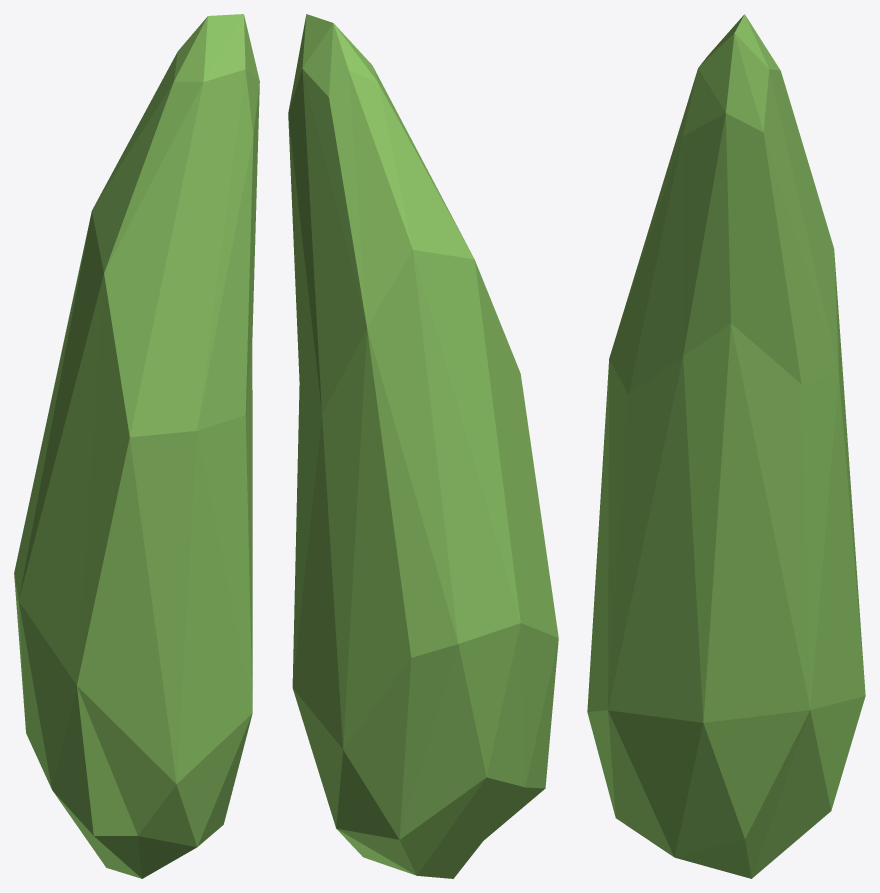
The model's file is Thuja_BushTree_m_08_LOD.fbx.
3 renders of one model, left to right at view 1: azimuth 30°, elevation 25°; view 2: azimuth 150°, elevation 25°; view 3: azimuth 270°, elevation 25°, orthographic. The views are drawn at different scales.
Visible parts, largest first — view 1: Thuja_BushTree_m_08_LOD0; view 2: Thuja_BushTree_m_08_LOD0; view 3: Thuja_BushTree_m_08_LOD0.
Boxes of the visible parts, <box> form: Thuja_BushTree_m_08_LOD0: <box>14,14,259,878</box>; Thuja_BushTree_m_08_LOD0: <box>288,14,558,878</box>; Thuja_BushTree_m_08_LOD0: <box>587,14,865,878</box>.
Size of what is drawn, in the model's own units: 123 by 419 by 118.
